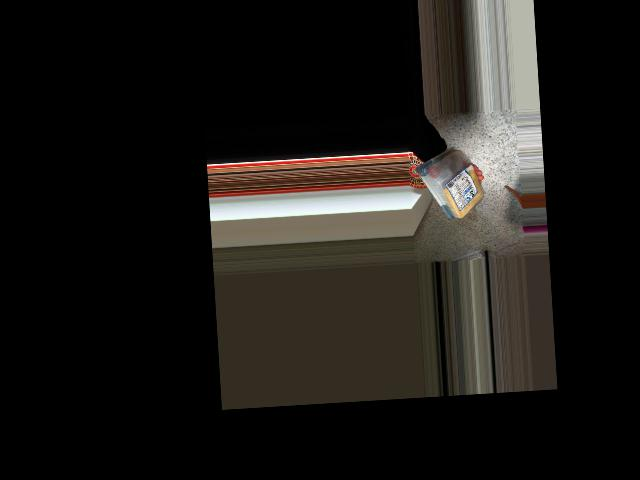cheese: (410, 142, 491, 226)
